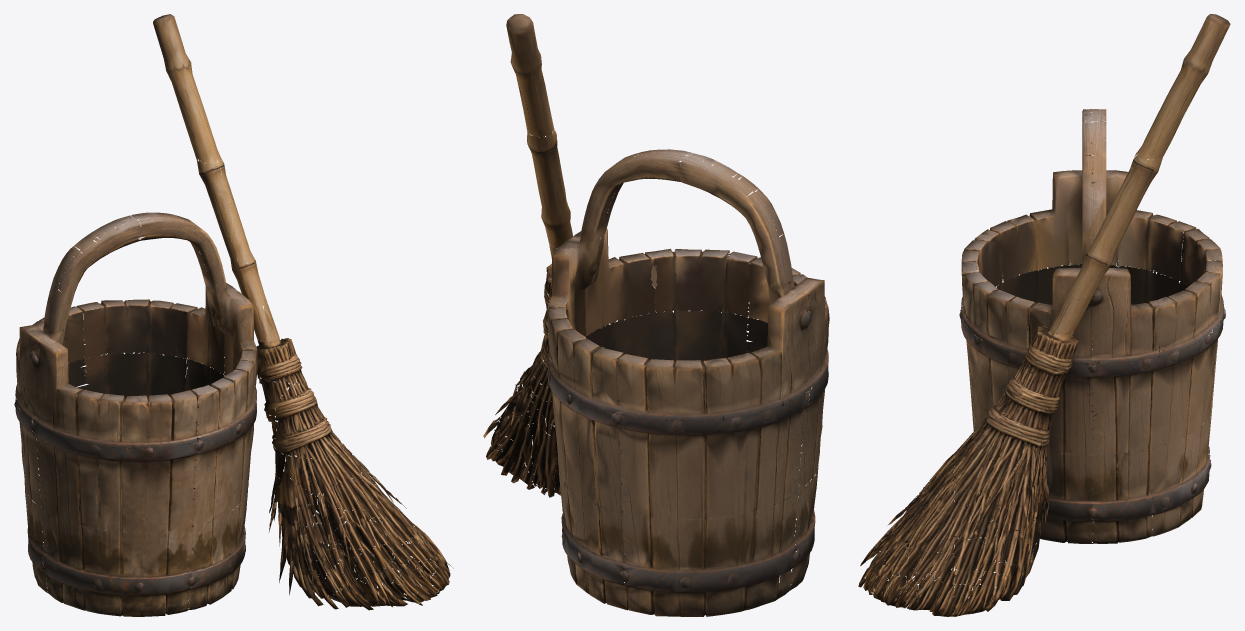
Rendered from hi3d-bucket.glb.
3 renders of one model, left to right at view 1: azimuth 30°, elevation 25°; view 2: azimuth 150°, elevation 25°; view 3: azimuth 270°, elevation 25°, orthographic. The views are drawn at different scales.
Visible parts, largest first — view 1: bucket; view 2: bucket; view 3: bucket.
Part boxes in pixels (x1,y1,x2,y2): bucket: (14, 14, 453, 616); bucket: (483, 14, 829, 616); bucket: (858, 14, 1230, 616).
Size of the model in its own units: 0.9467 by 1.3 by 0.8293.
1 material, 1 textured.
